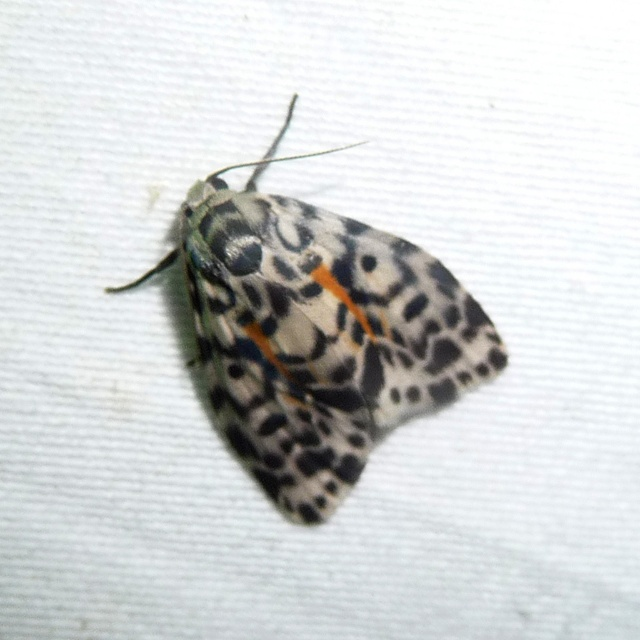Butterfly: (105, 112, 527, 523)
